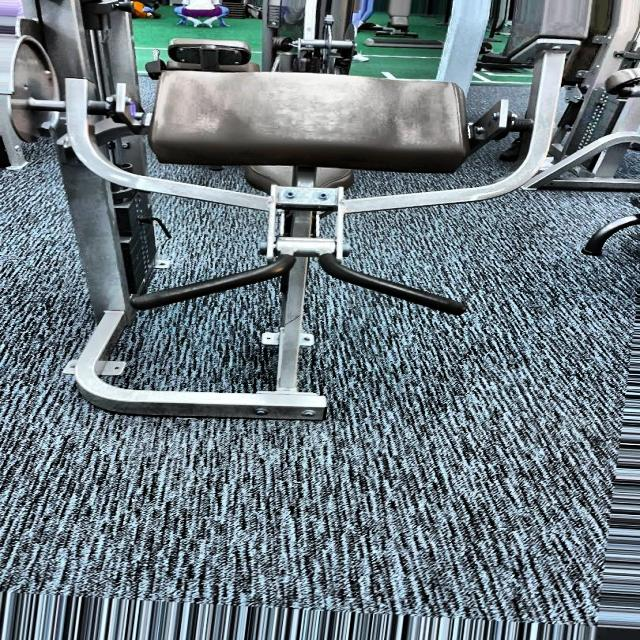bicep_curl_machine: (87, 54, 594, 445)
